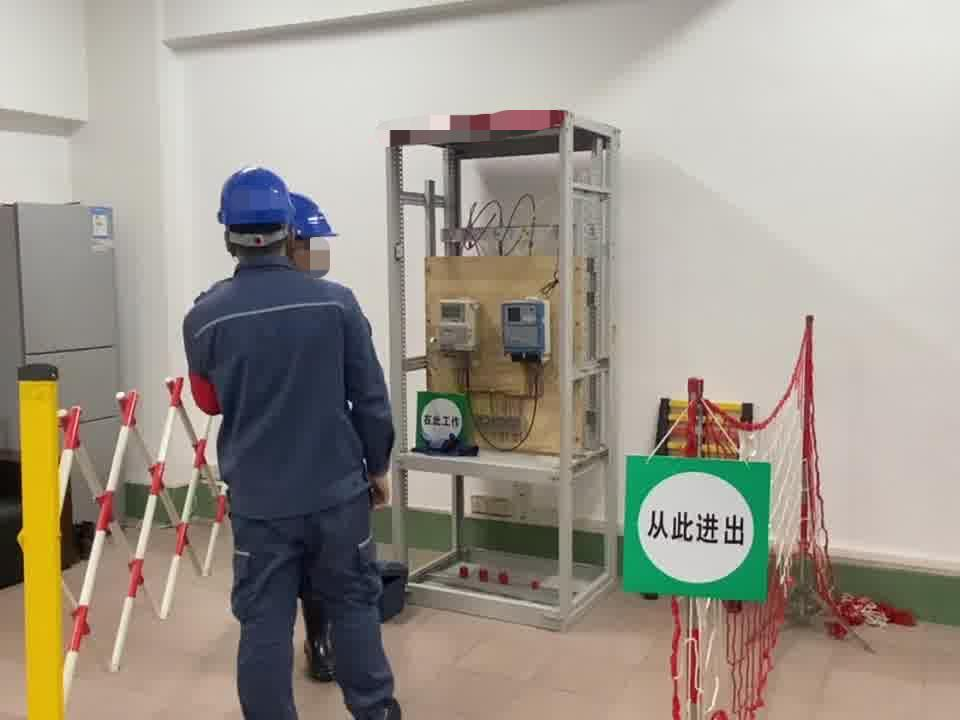halt: (219, 168, 300, 262), (287, 193, 338, 274)
